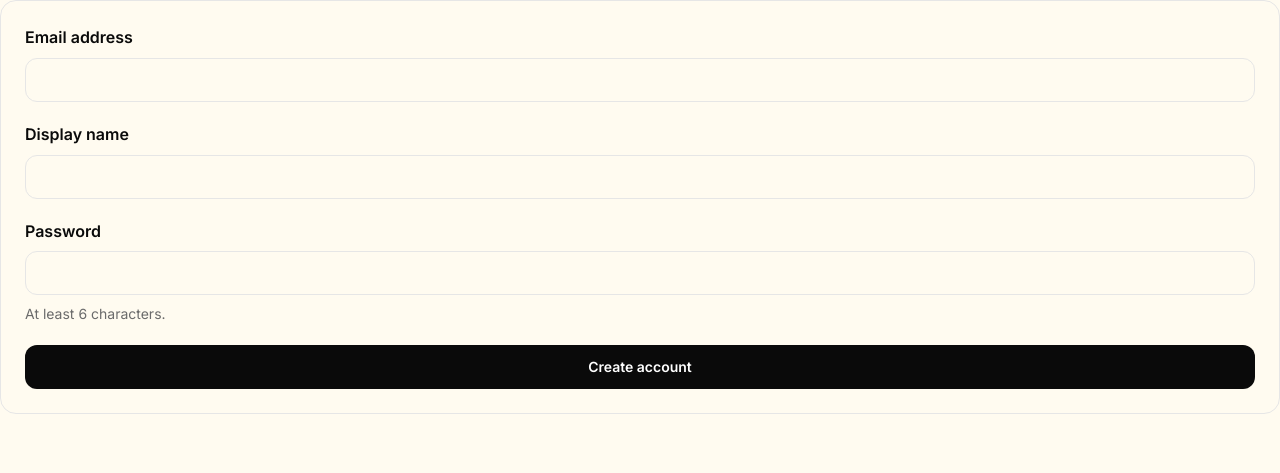
Test: SignupForm › requires a display name
Step 1. Type "human@example.test" into the field labelled "Email address" → (640, 80), box [25,58,1255,102]
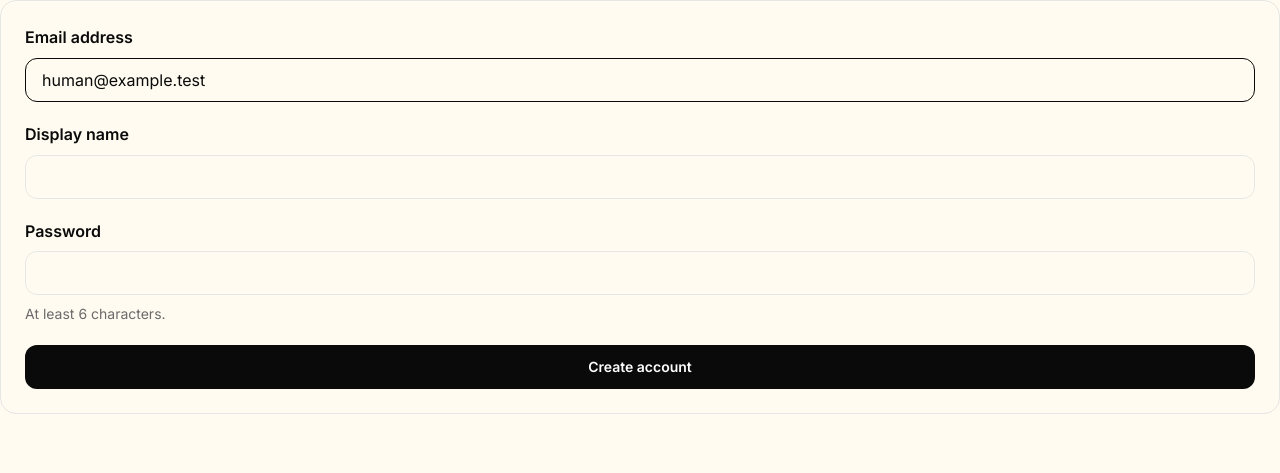
Step 2. Click the button "Create account" → (640, 367), box [25,345,1255,389]
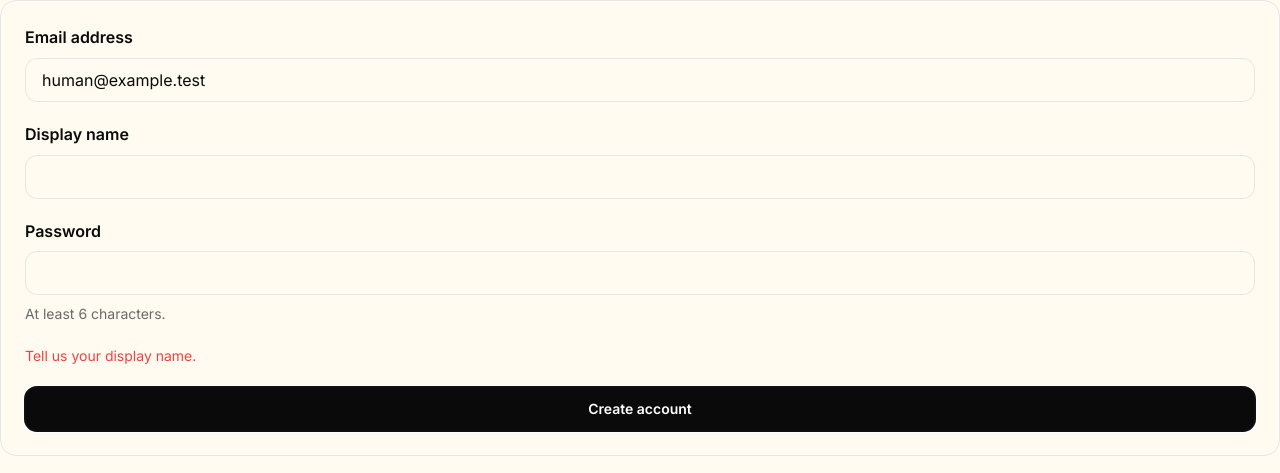
Result: the message reads "Tell us your display name." at [25,347,196,364]
